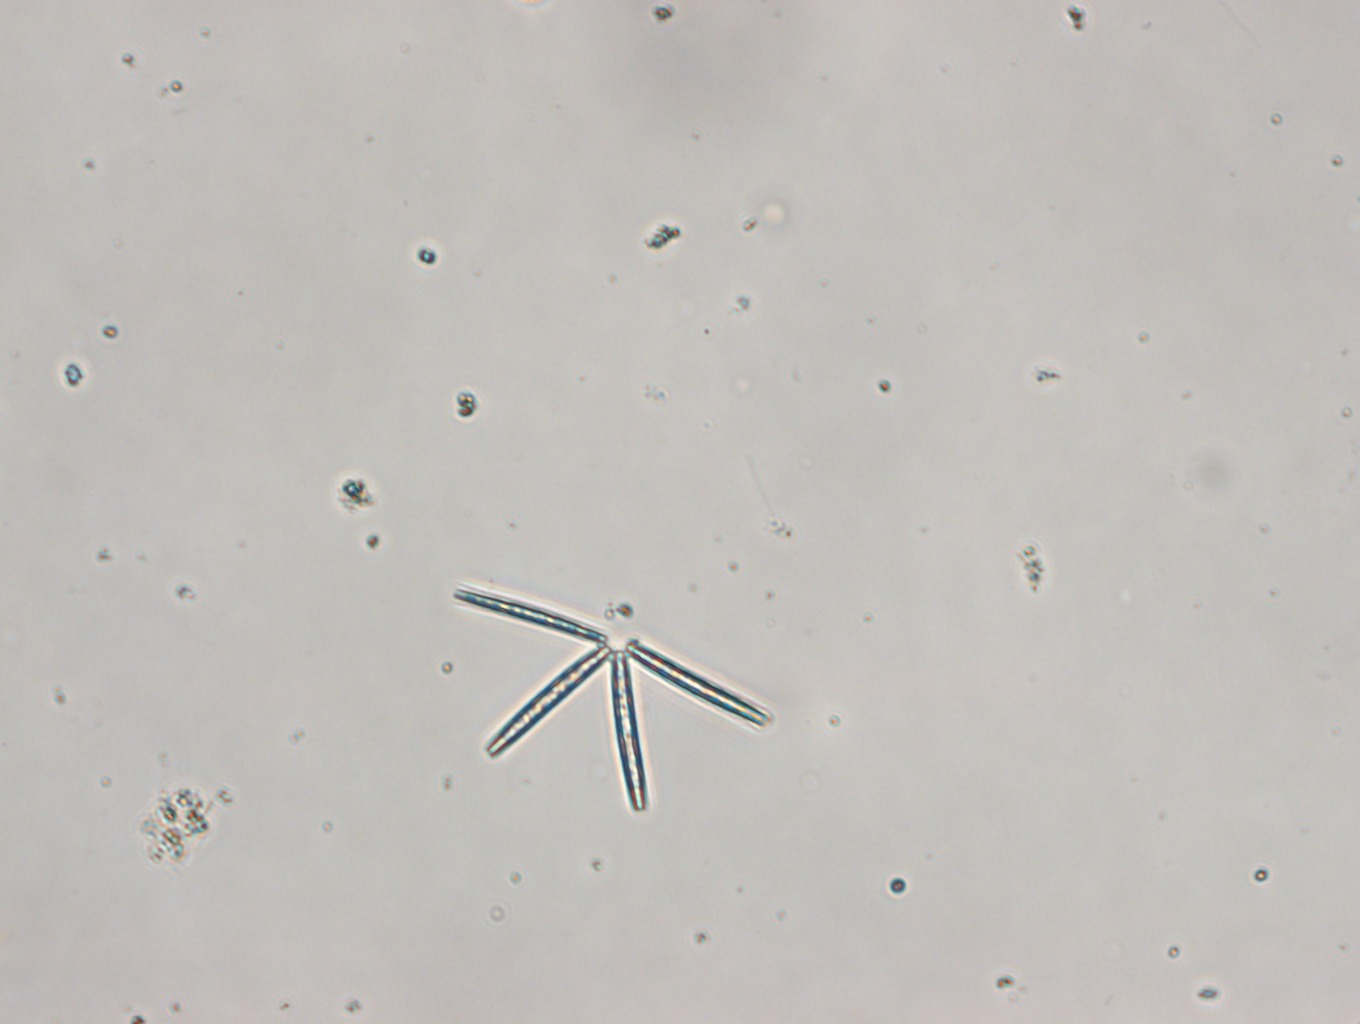thalassionema nitzschioides: (450, 583, 769, 812)
